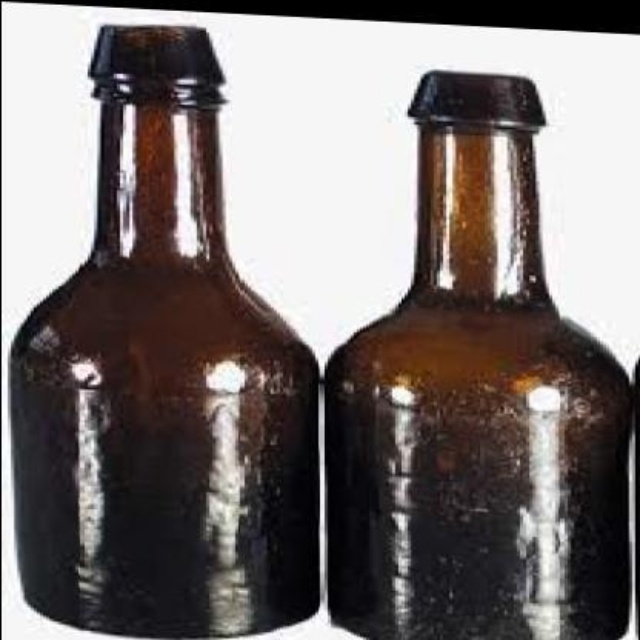trash: (11, 25, 317, 635), (326, 71, 629, 638)
